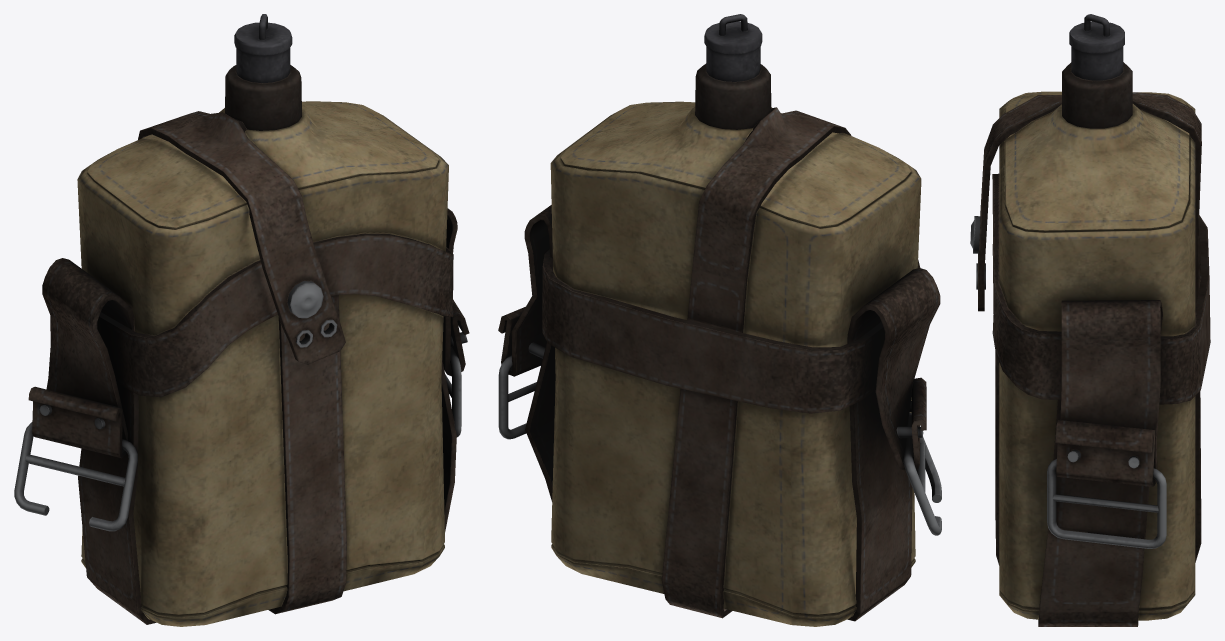
The model's file is Canteen_02.fbx.
The picture shows the model from 3 angles, left to right: view 1: azimuth 30°, elevation 25°; view 2: azimuth 150°, elevation 25°; view 3: azimuth 270°, elevation 25°; orthographic projection. The views are drawn at different scales.
Parts seen in each view (by area): view 1: Canteen_2; view 2: Canteen_2; view 3: Canteen_2.
Boxes of the visible parts, x1=… form: Canteen_2: x1=14, y1=14, x2=469, y2=626; Canteen_2: x1=498, y1=14, x2=941, y2=626; Canteen_2: x1=970, y1=14, x2=1210, y2=626.
Bounding box in the file's own units: 16.75 × 20.65 × 8.19.
Materials: 1 (1 with a texture image).
